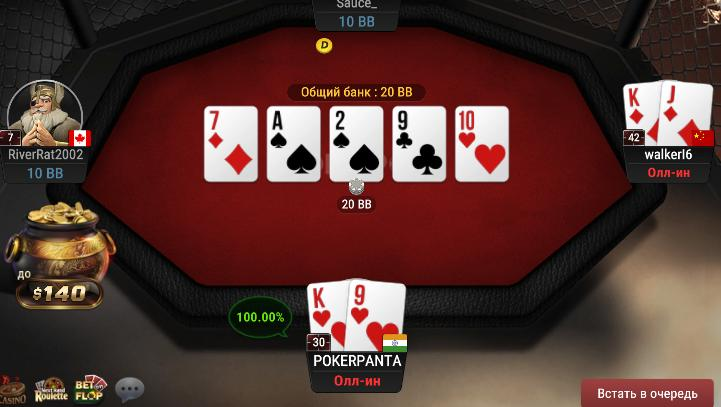10h: (456, 107, 509, 182)
2s: (331, 108, 383, 181)
7d: (205, 107, 258, 181)
9c: (393, 107, 447, 181)
9h: (347, 279, 406, 352)
As: (267, 107, 321, 182)
Jd: (660, 79, 711, 146)
Kd: (624, 82, 660, 147)
Kh: (303, 281, 346, 351)
